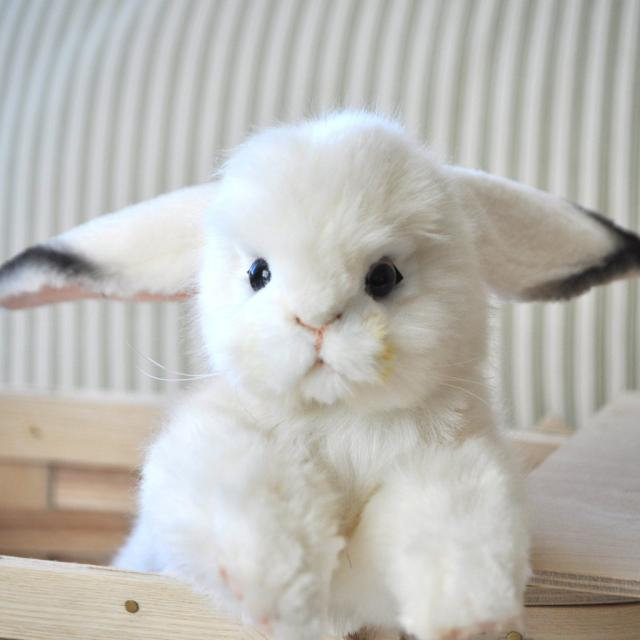Hare: (7, 105, 636, 640)
